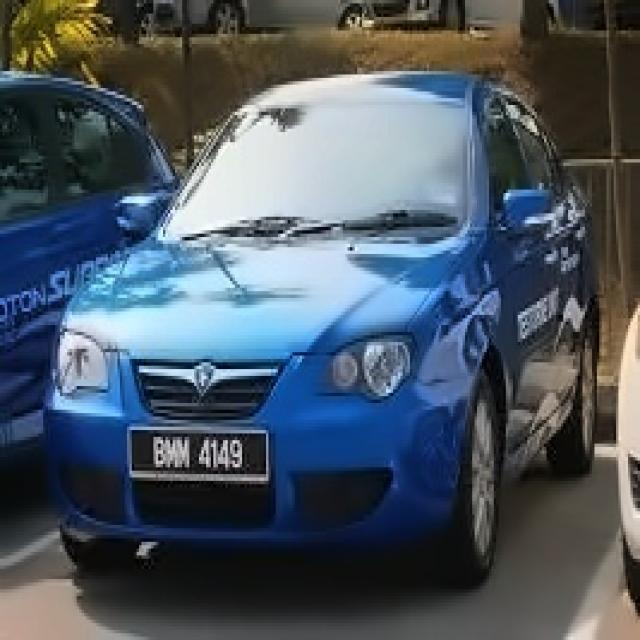car-plate: (130, 428, 268, 480)
